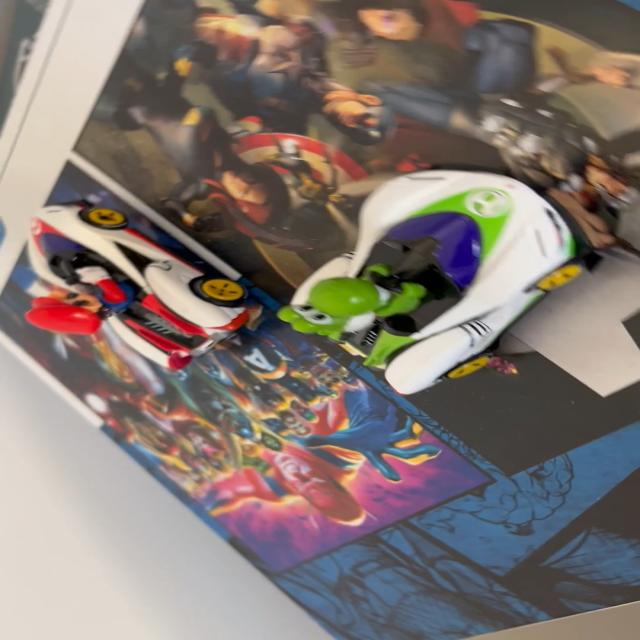mario: (16, 191, 262, 373)
yoshi: (266, 146, 610, 410)
